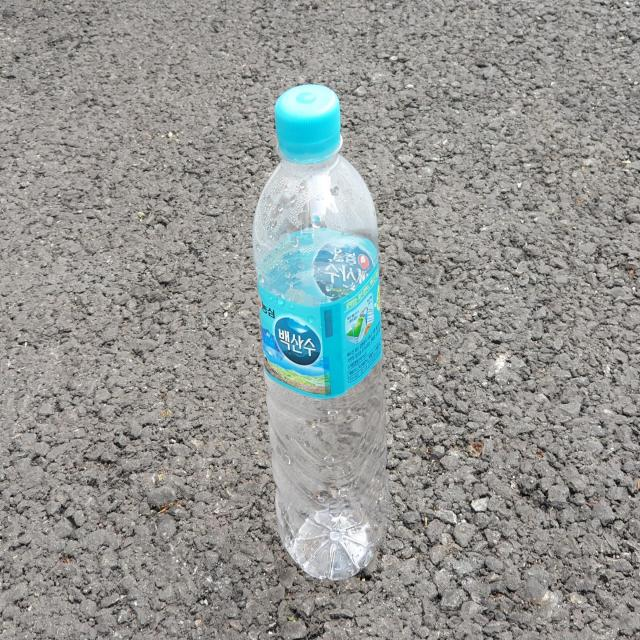plastic: (253, 83, 389, 581)
